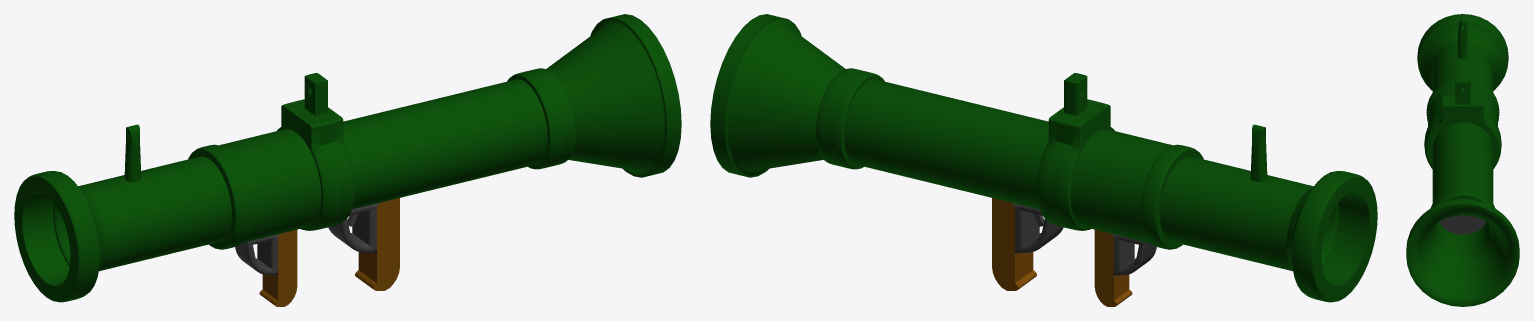
Rendered from stylized_bazooka_by_jungle_jim_220kb.glb.
3 renders of one model, left to right at view 1: azimuth 30°, elevation 25°; view 2: azimuth 150°, elevation 25°; view 3: azimuth 270°, elevation 25°, orthographic. The views are drawn at different scales.
Visible parts, largest first — view 1: Cylinder, Cube.001, Cube.002, Cube; view 2: Cylinder, Cube.001, Cube.002, Cube; view 3: Cylinder, Cube.
Part boxes in pixels (x1,y1,x2,y2): Cylinder: (14,14,681,302); Cube.001: (328,198,399,290); Cube.002: (235,229,297,306); Cube: (124,124,141,181); Cylinder: (710,14,1377,302); Cube.001: (992,198,1063,290); Cube.002: (1094,229,1156,306); Cube: (1250,124,1267,181); Cylinder: (1406,14,1519,306); Cube: (1458,18,1467,58).
Size of the model in its own units: 2.58 by 0.9155 by 0.6159.
